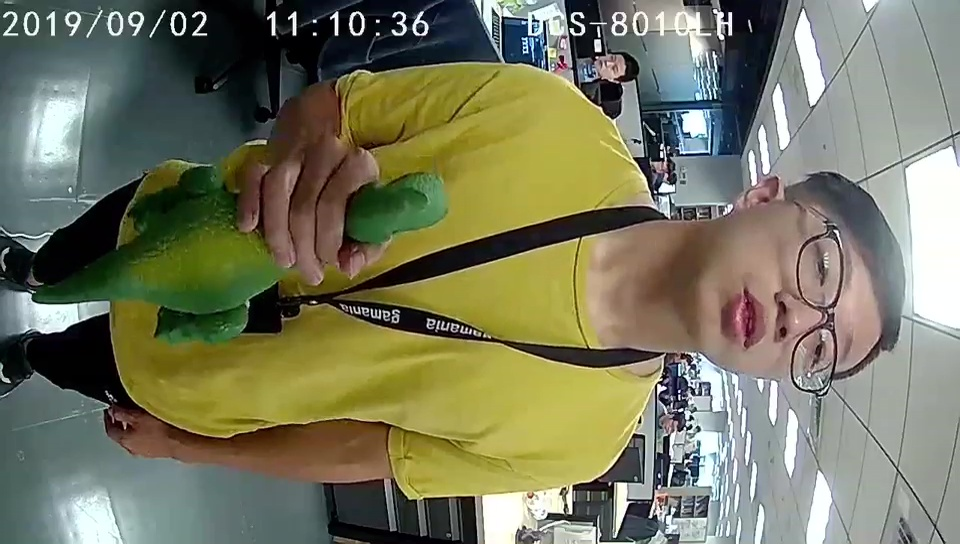rex: (153, 169, 445, 346)
